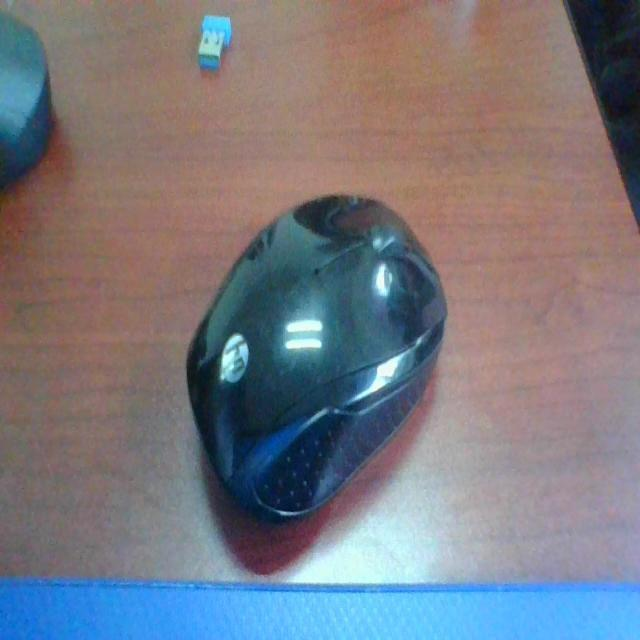Mouse: (186, 178, 471, 524)
